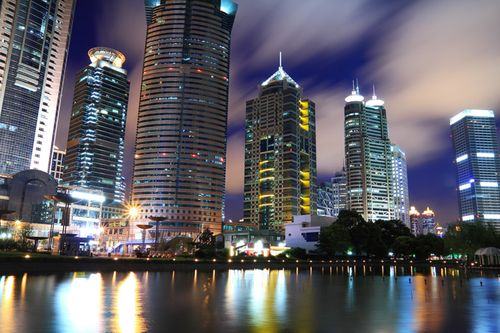buildings: (120, 9, 239, 247), (238, 60, 319, 252), (64, 58, 138, 230), (337, 80, 413, 245), (443, 104, 500, 245)
